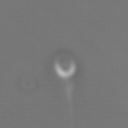normal: (60, 81, 82, 128)
